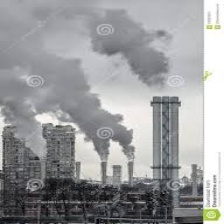smoke: (101, 16, 168, 86), (41, 62, 99, 117)
